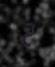two: (19, 19, 33, 47)
